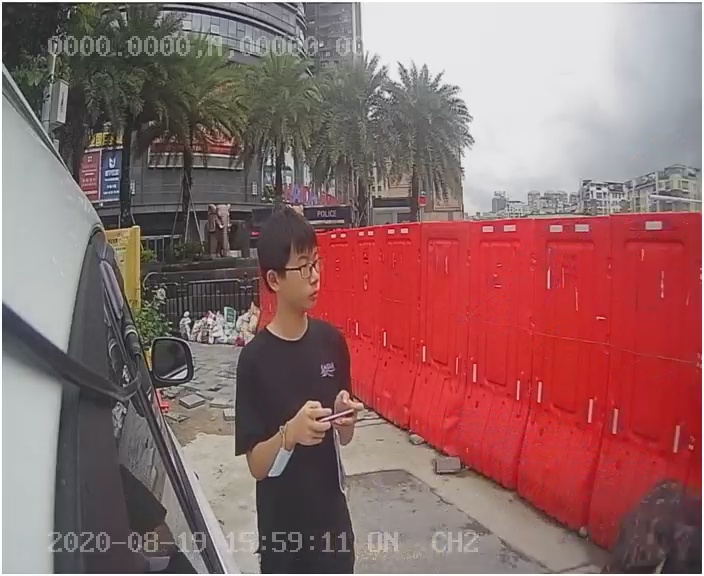person: (213, 204, 381, 536)
